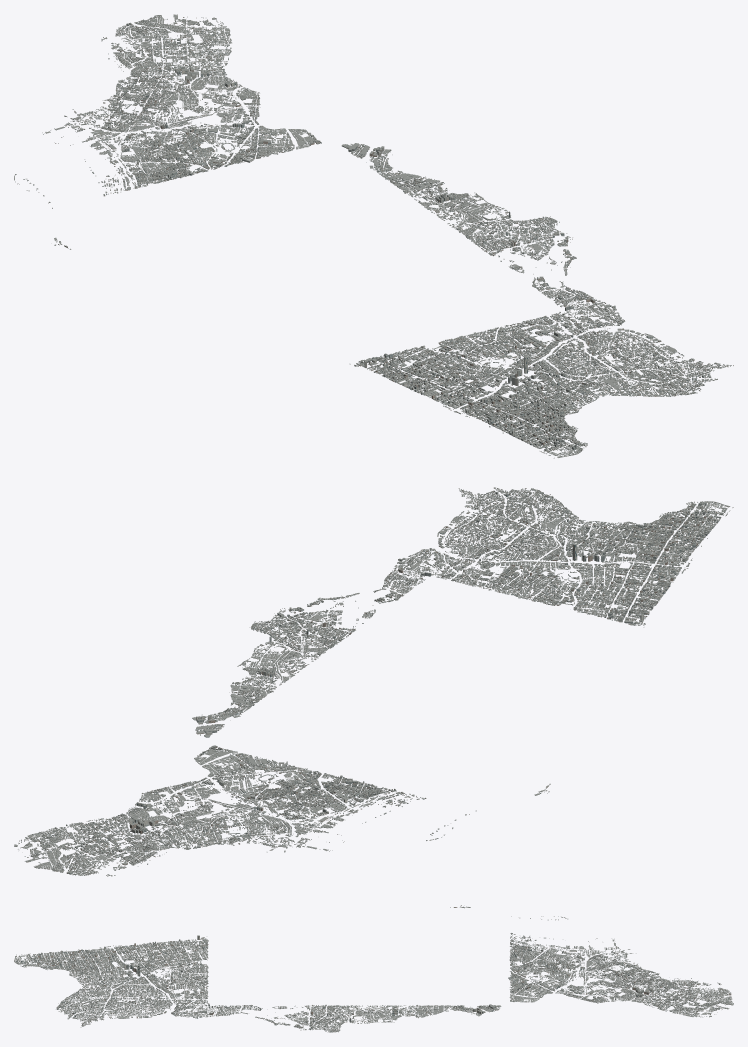
The model's file is distant.glb.
3 renders of one model, top to bottom at view 1: azimuth 30°, elevation 25°; view 2: azimuth 150°, elevation 25°; view 3: azimuth 270°, elevation 25°, orthographic. The views are drawn at different scales.
Parts seen in each view (by area): view 1: Roof | warm grey [0,1].001, Roof | warm grey [0,-3].001, Roof | warm grey [0,-2].001, Roof | warm grey [1,-1].001, Roof | warm grey [0,0].001, Roof | warm grey [0,2].001, Facade 00 | plaster and window grid [0,-3].001, Facade 03 | plaster and window grid [0,-3].001, Facade 02 | plaster and window grid [0,-3].001, Facade 04 | plaster and window grid [0,-3].001, Facade 01 | plaster and window grid [0,-3].001, Roof | warm grey [1,-3].001 (+13 smaller); view 2: Roof | warm grey [0,1].001, Roof | warm grey [0,-3].001, Roof | warm grey [0,-2].001, Roof | warm grey [1,-1].001, Roof | warm grey [0,0].001, Roof | warm grey [0,2].001, Facade 00 | plaster and window grid [0,-3].001, Facade 03 | plaster and window grid [0,-3].001, Facade 04 | plaster and window grid [0,-3].001, Facade 02 | plaster and window grid [0,-3].001, Roof | warm grey [1,-3].001, Facade 01 | plaster and window grid [0,-3].001 (+16 smaller); view 3: Roof | warm grey [0,1].001, Roof | warm grey [0,-3].001, Roof | warm grey [0,-2].001, Roof | warm grey [1,-1].001, Roof | warm grey [0,0].001, Roof | warm grey [0,2].001, Roof | warm grey [1,-3].001, Facade 00 | plaster and window grid [0,-3].001, Facade 03 | plaster and window grid [0,-3].001, Facade 04 | plaster and window grid [0,-3].001, Roof | warm grey [1,-2].001, Facade 02 | plaster and window grid [0,-3].001 (+21 smaller).
Boxes of the visible parts, x1,y1,x2,y2 form: Roof | warm grey [0,1].001: (74, 49, 290, 165); Roof | warm grey [0,-3].001: (447, 346, 686, 457); Roof | warm grey [0,-2].001: (396, 271, 619, 388); Roof | warm grey [1,-1].001: (419, 190, 575, 270); Roof | warm grey [0,0].001: (142, 129, 416, 196); Roof | warm grey [0,2].001: (101, 15, 211, 68); Facade 00 | plaster and window grid [0,-3].001: (450, 347, 684, 457); Facade 03 | plaster and window grid [0,-3].001: (449, 347, 687, 455); Facade 02 | plaster and window grid [0,-3].001: (447, 346, 685, 456); Facade 04 | plaster and window grid [0,-3].001: (448, 347, 685, 457); Facade 01 | plaster and window grid [0,-3].001: (452, 348, 685, 456); Roof | warm grey [1,-3].001: (622, 338, 733, 394); Roof | warm grey [0,1].001: (76, 764, 347, 852); Roof | warm grey [0,-3].001: (475, 491, 733, 579); Roof | warm grey [0,-2].001: (375, 539, 644, 615); Roof | warm grey [1,-1].001: (239, 598, 370, 684); Roof | warm grey [0,0].001: (194, 686, 368, 799); Roof | warm grey [0,2].001: (34, 831, 157, 876); Facade 00 | plaster and window grid [0,-3].001: (479, 492, 729, 579); Facade 03 | plaster and window grid [0,-3].001: (478, 491, 726, 579); Facade 04 | plaster and window grid [0,-3].001: (477, 491, 728, 579); Facade 02 | plaster and window grid [0,-3].001: (478, 492, 732, 578); Roof | warm grey [1,-3].001: (441, 487, 539, 538); Facade 01 | plaster and window grid [0,-3].001: (477, 492, 727, 580); Roof | warm grey [0,1].001: (538, 949, 670, 1006); Roof | warm grey [0,-3].001: (14, 950, 143, 1007); Roof | warm grey [0,-2].001: (143, 950, 255, 1007); Roof | warm grey [1,-1].001: (275, 1006, 406, 1032); Roof | warm grey [0,0].001: (409, 951, 538, 1007); Roof | warm grey [0,2].001: (670, 978, 733, 1007); Roof | warm grey [1,-3].001: (56, 1006, 143, 1026); Facade 00 | plaster and window grid [0,-3].001: (17, 951, 143, 1007); Facade 03 | plaster and window grid [0,-3].001: (16, 950, 143, 1007); Facade 04 | plaster and window grid [0,-3].001: (16, 950, 143, 1006); Roof | warm grey [1,-2].001: (143, 1006, 276, 1024); Facade 02 | plaster and window grid [0,-3].001: (17, 951, 143, 1006).
Size of the model in its own units: 5503 by 210 by 13119.
6 materials, 5 textured.
